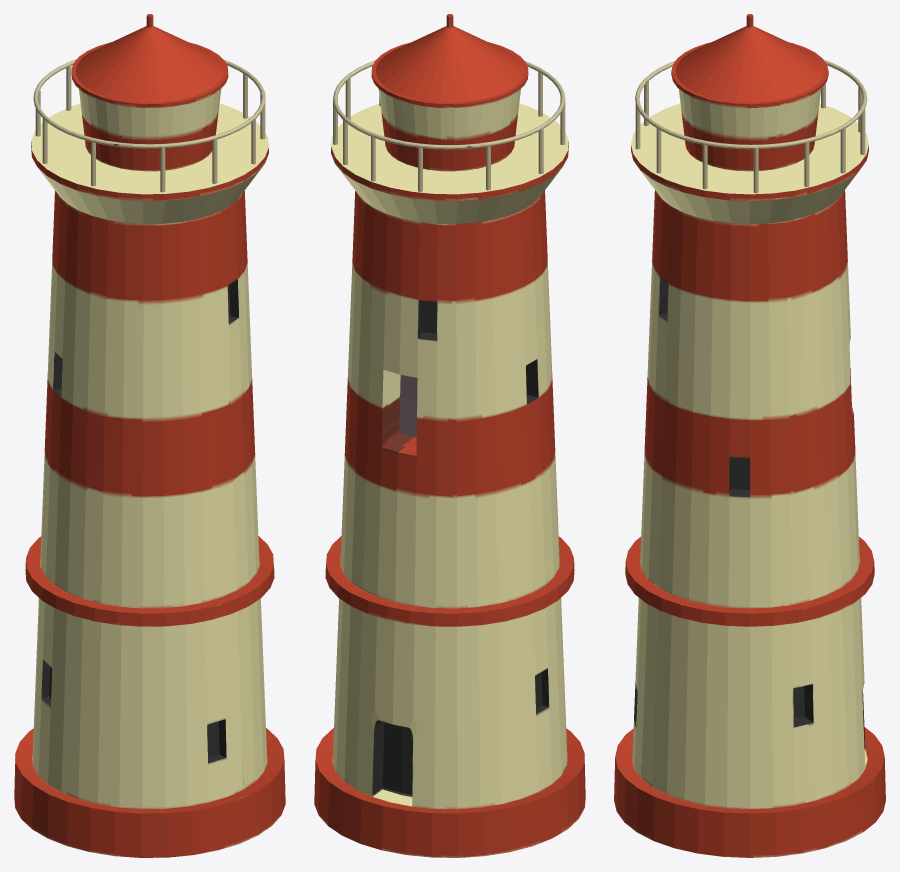
Rendered from lighthouse 1.fbx.
3 views of the same model, side by side, from view 1: azimuth 30°, elevation 25°; view 2: azimuth 150°, elevation 25°; view 3: azimuth 270°, elevation 25° (orthographic).
Parts seen in each view (by area): view 1: Cylinder; view 2: Cylinder; view 3: Cylinder.
Part boxes in pixels (<box>): Cylinder: <box>14,14,285,857</box>; Cylinder: <box>314,14,585,857</box>; Cylinder: <box>614,14,885,857</box>.
Size of the model in its own units: 673 by 673 by 2144.
